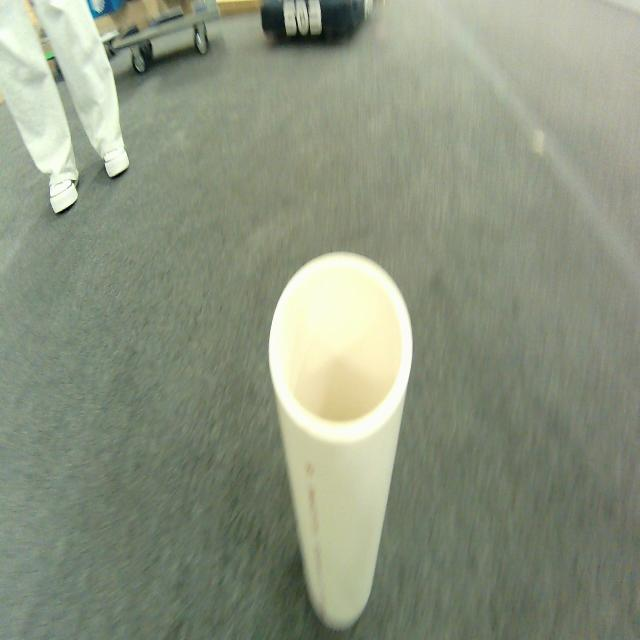coral: (260, 247, 424, 640)
